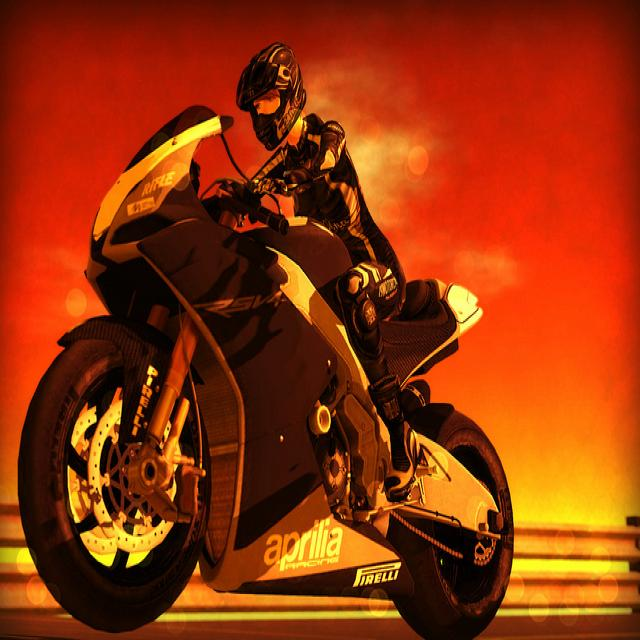motor: (20, 103, 517, 630)
